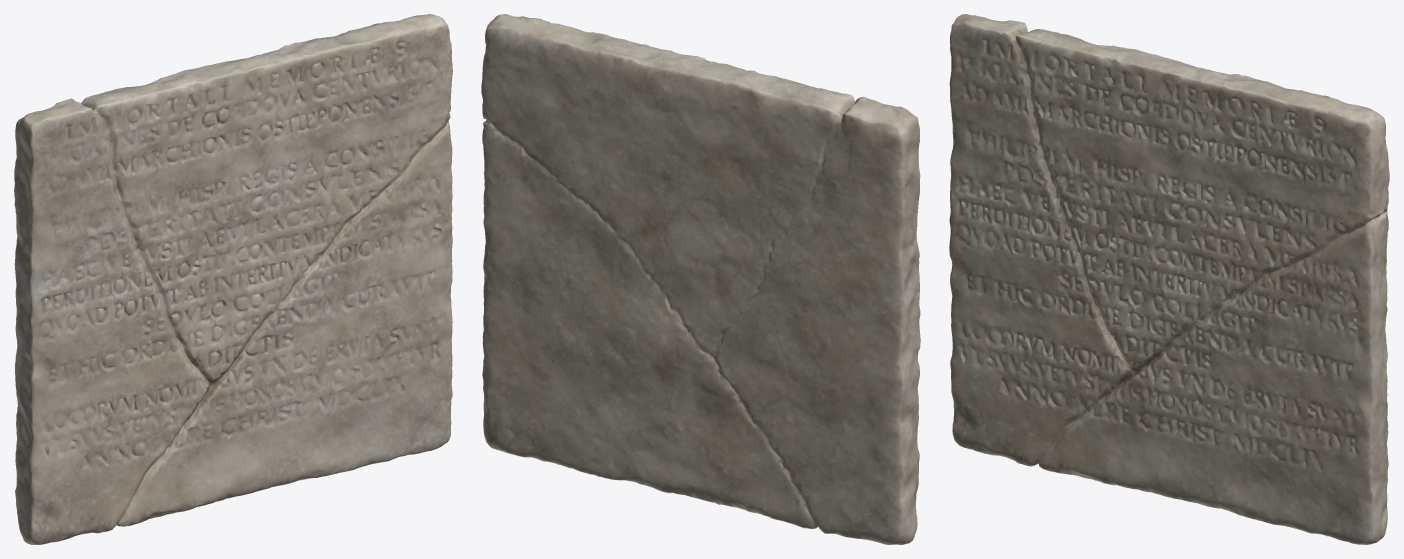
The model's file is 01_INS_conmemorativa.glb.
3 views of the same model, side by side, from view 1: azimuth 30°, elevation 25°; view 2: azimuth 150°, elevation 25°; view 3: azimuth 330°, elevation 25° (orthographic).
Parts seen in each view (by area): view 1: INSC_CONMEMORATIVA_LP; view 2: INSC_CONMEMORATIVA_LP; view 3: INSC_CONMEMORATIVA_LP.
Part boxes in pixels (box(x1,y1,x2,y2)): INSC_CONMEMORATIVA_LP: box(14, 14, 452, 544); INSC_CONMEMORATIVA_LP: box(481, 14, 920, 544); INSC_CONMEMORATIVA_LP: box(949, 14, 1389, 544).
Bounding box in the file's own units: 1.11 × 1.07 × 0.096.
1 material, 1 textured.
